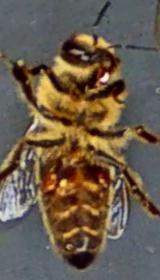varroa_mite: (78, 152, 118, 198), (54, 156, 88, 205), (26, 154, 64, 194)
